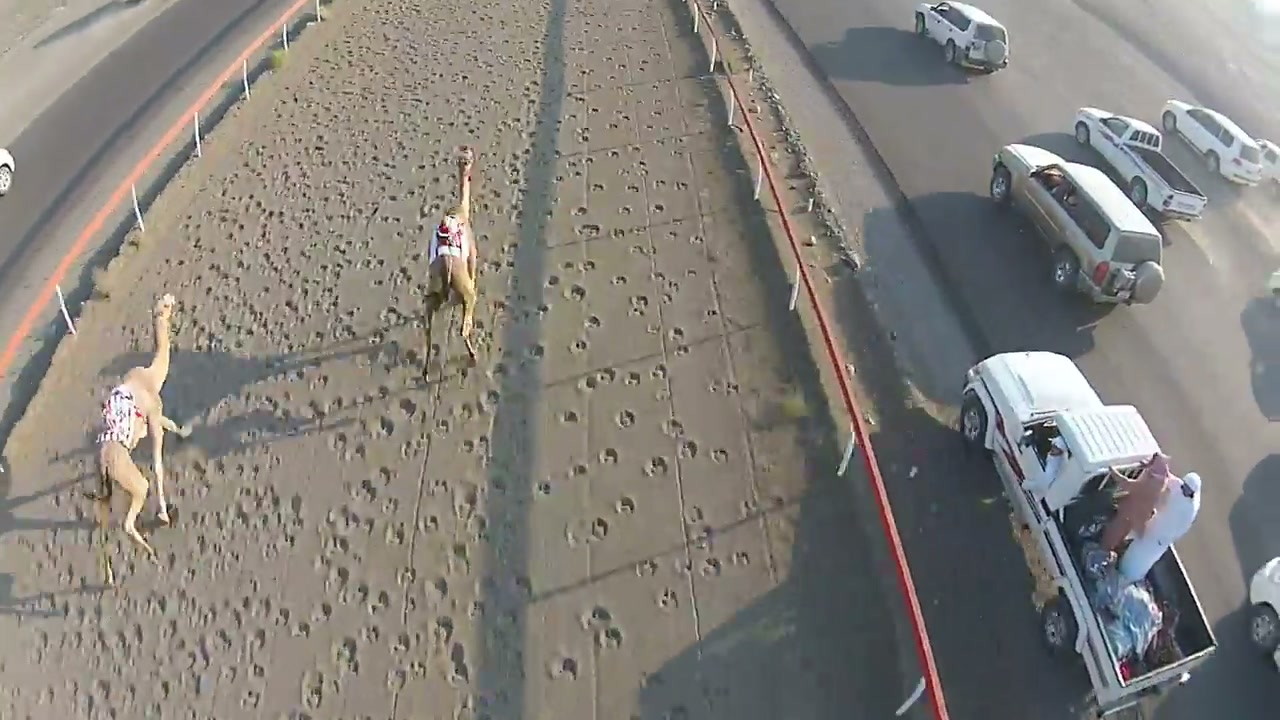animal_footprint: (122, 71, 373, 719), (348, 35, 544, 655), (559, 52, 662, 646)
